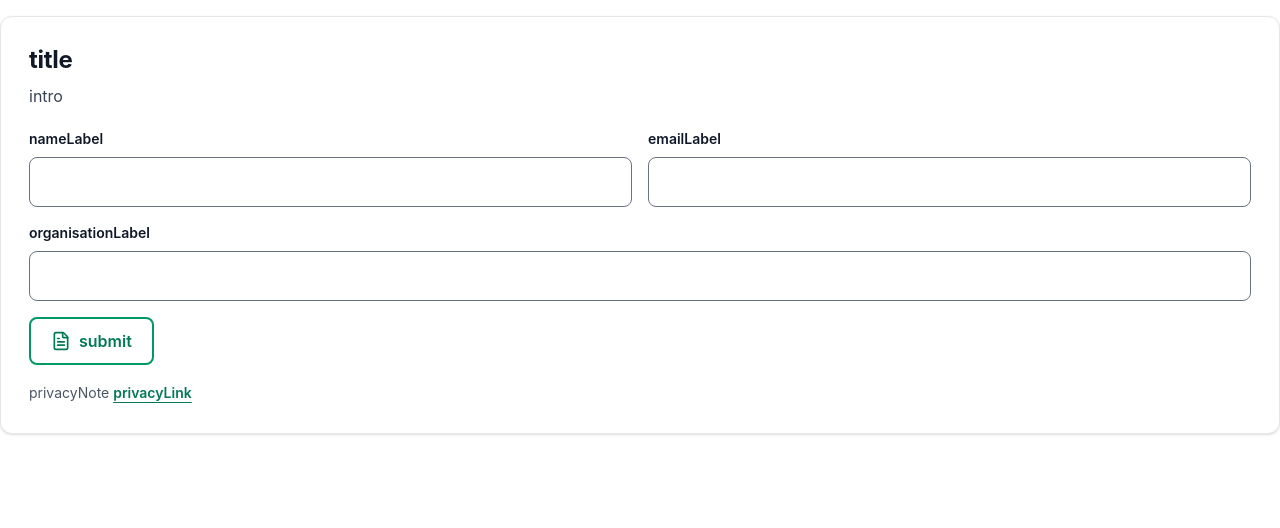
Test: FitCvCard › shows the queue sentence on 429 and the general one on any other refusal
The image size is (1280, 528).
Type "Jane Doe" into the field labelled "nameLabel". click: (330, 182)
box: [29, 157, 632, 207]
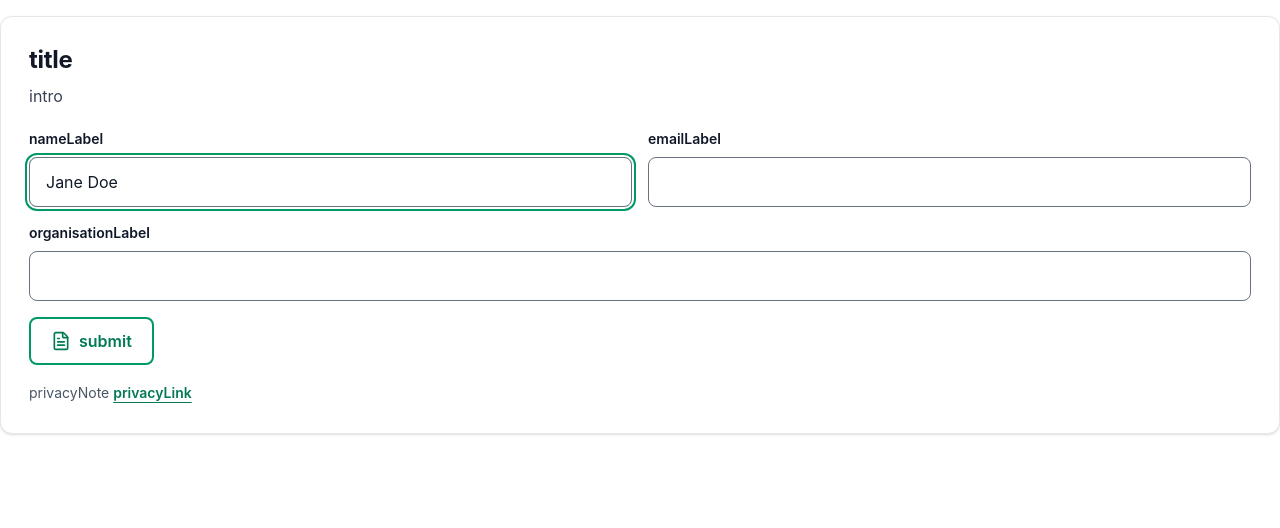
Type "jane@example.com" into the field labelled "emailLabel". click: (950, 182)
box: [648, 157, 1251, 207]
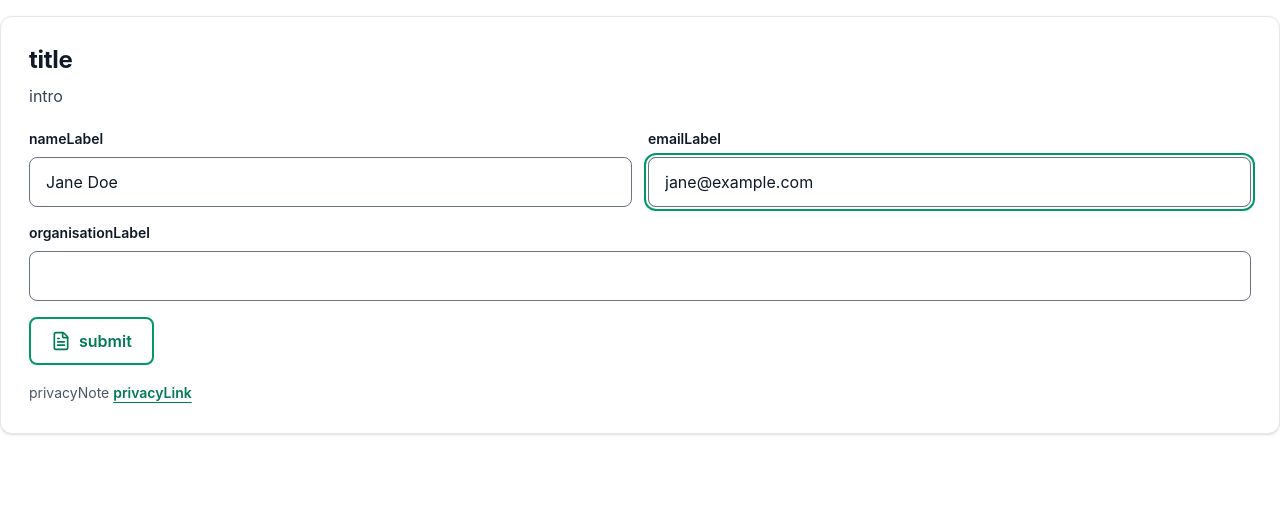
Type "Acme" into the field labelled "organisationLabel". click: (640, 276)
box: [29, 251, 1251, 301]
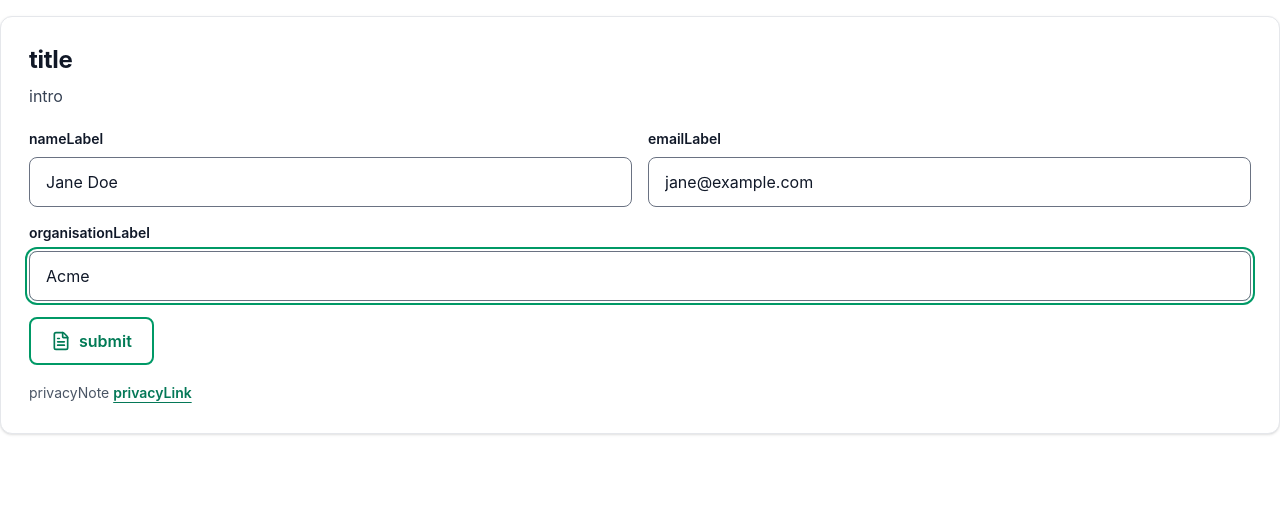
Click the button "submit". click: (91, 341)
box: [29, 317, 154, 365]
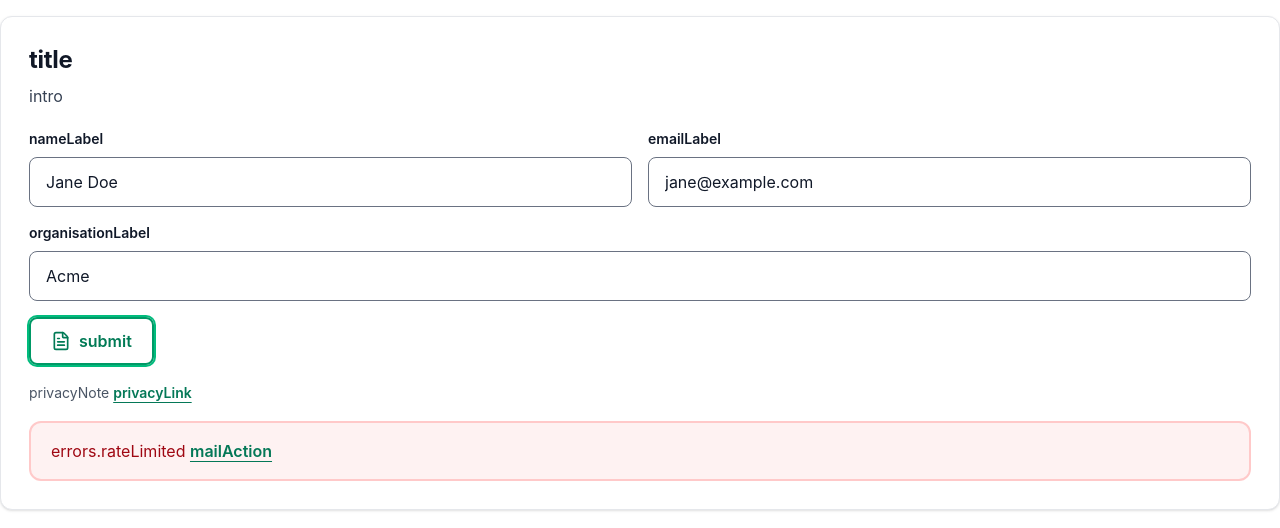
Expected: the message shows "errors.rateLimited", [51, 441, 186, 461]
Click the button "submit". click: (91, 341)
box: [29, 317, 154, 365]
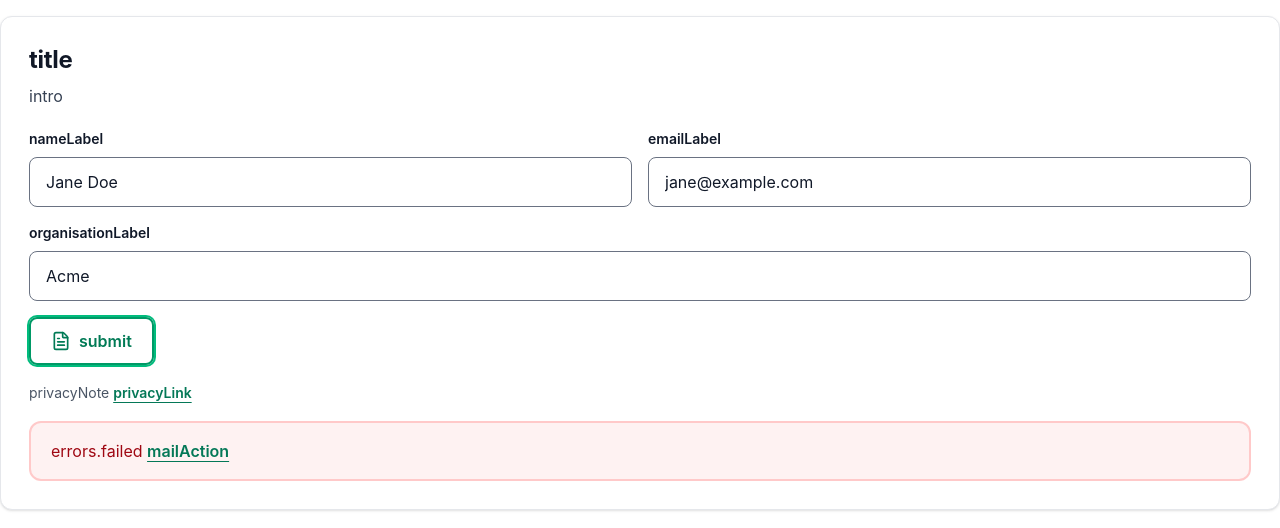
Expected: the message shows "errors.failed", [51, 441, 143, 461]
